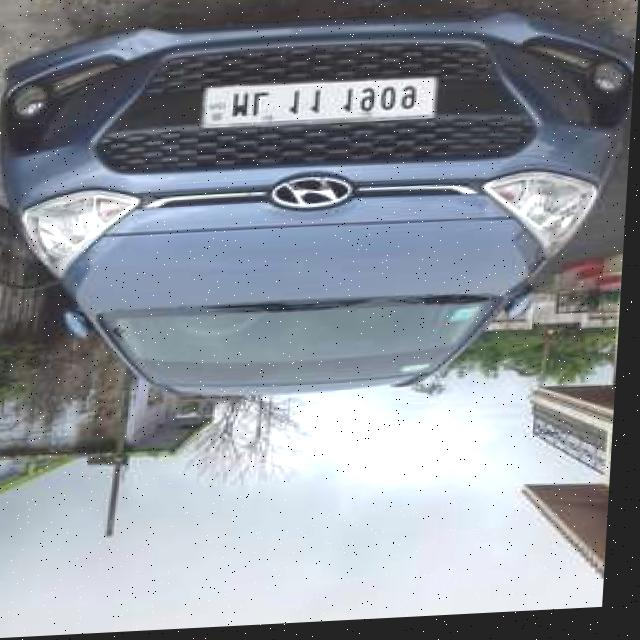plate: (200, 79, 443, 134)
